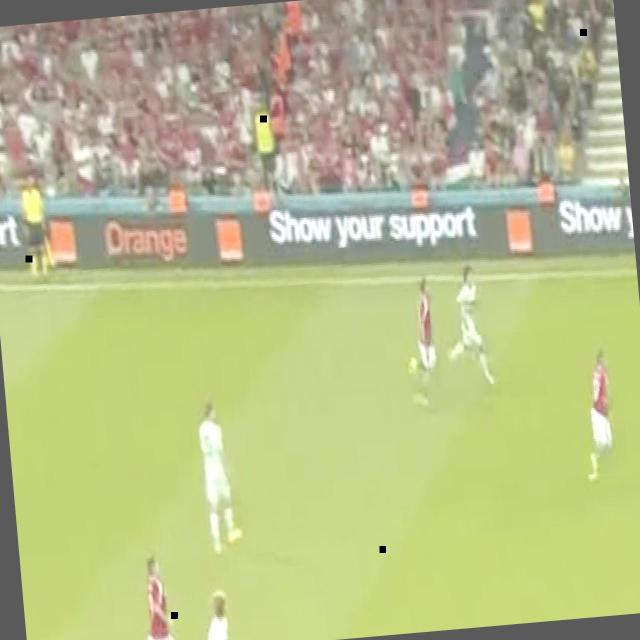player-white: (197, 399, 245, 557), (440, 259, 494, 386), (578, 344, 618, 482), (122, 552, 182, 640), (400, 278, 440, 408), (20, 174, 50, 286), (186, 587, 232, 640)
